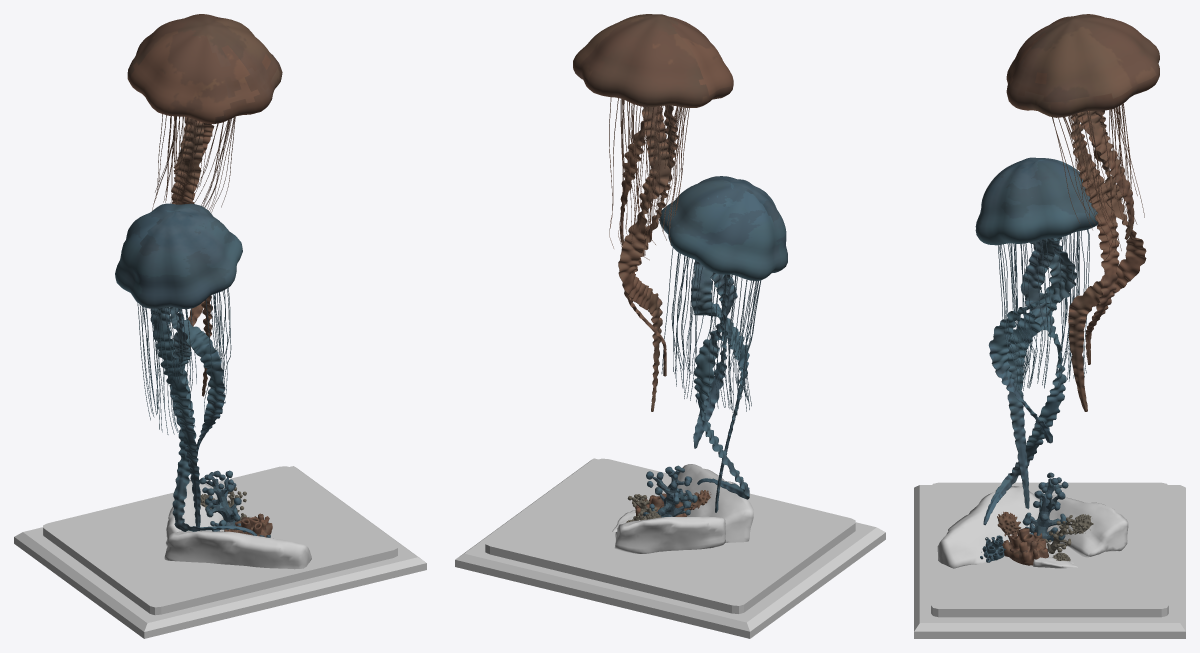
Rendered from statue_finale.fbx.
3 views of the same model, side by side, from view 1: azimuth 30°, elevation 25°; view 2: azimuth 150°, elevation 25°; view 3: azimuth 270°, elevation 25° (orthographic). The views are drawn at different scales.
Visible parts, largest first — view 1: Socle_Statue, Retopo_Meduse haut, Meduse bas, Pierre, Tentacule_Bas, Arm_Bas_02, Tentacule_Haut, Arm_Bas_03, Arm_Bas_01, Arm_Haut_02, Coraux2, Pierre3 (+1 smaller); view 2: Socle_Statue, Retopo_Meduse haut, Meduse bas, Tentacule_Bas, Arm_Haut_02.001, Tentacule_Haut, Pierre3, Arm_Bas_03, Pierre, Arm_Bas_01, Arm_Haut_02, Coraux2 (+2 smaller); view 3: Socle_Statue, Retopo_Meduse haut, Meduse bas, Tentacule_Bas, Arm_Bas_03, Pierre, Arm_Haut_02.001, Arm_Haut_02, Tentacule_Haut, Arm_Bas_02, Pierre3, Arm_Bas_01 (+6 smaller).
Part boxes in pixels (x1,y1,x2,y2): Socle_Statue: (14,466,426,638); Retopo_Meduse haut: (127,14,282,124); Meduse bas: (115,203,242,309); Pierre: (164,530,311,569); Tentacule_Bas: (137,287,231,434); Arm_Bas_02: (150,307,200,530); Tentacule_Haut: (152,114,235,213); Arm_Bas_03: (169,308,257,535); Arm_Bas_01: (169,307,225,456); Arm_Haut_02: (171,117,204,347); Coraux2: (200,470,245,532); Pierre3: (166,480,223,546); Socle_Statue: (455,458,885,638); Retopo_Meduse haut: (573,14,733,107); Meduse bas: (659,176,787,280); Tentacule_Bas: (661,247,761,414); Arm_Haut_02.001: (618,106,670,411); Tentacule_Haut: (609,97,689,260); Pierre3: (614,516,725,553); Arm_Bas_03: (694,272,749,499); Pierre: (677,464,753,542); Arm_Bas_01: (691,260,727,448); Arm_Haut_02: (622,105,677,376); Coraux2: (643,465,697,517); Socle_Statue: (914,482,1185,638); Retopo_Meduse haut: (1006,14,1159,117); Meduse bas: (975,157,1098,245); Tentacule_Bas: (998,229,1089,391); Arm_Bas_03: (983,237,1066,525); Pierre: (937,486,1039,568); Arm_Haut_02.001: (1068,110,1146,411); Arm_Haut_02: (1071,113,1119,364); Tentacule_Haut: (1052,103,1144,259); Arm_Bas_02: (1007,240,1063,509); Pierre3: (1047,495,1128,557); Arm_Bas_01: (988,238,1076,443).
Size of the model in its own units: 12.52 by 9.98 by 22.17.
